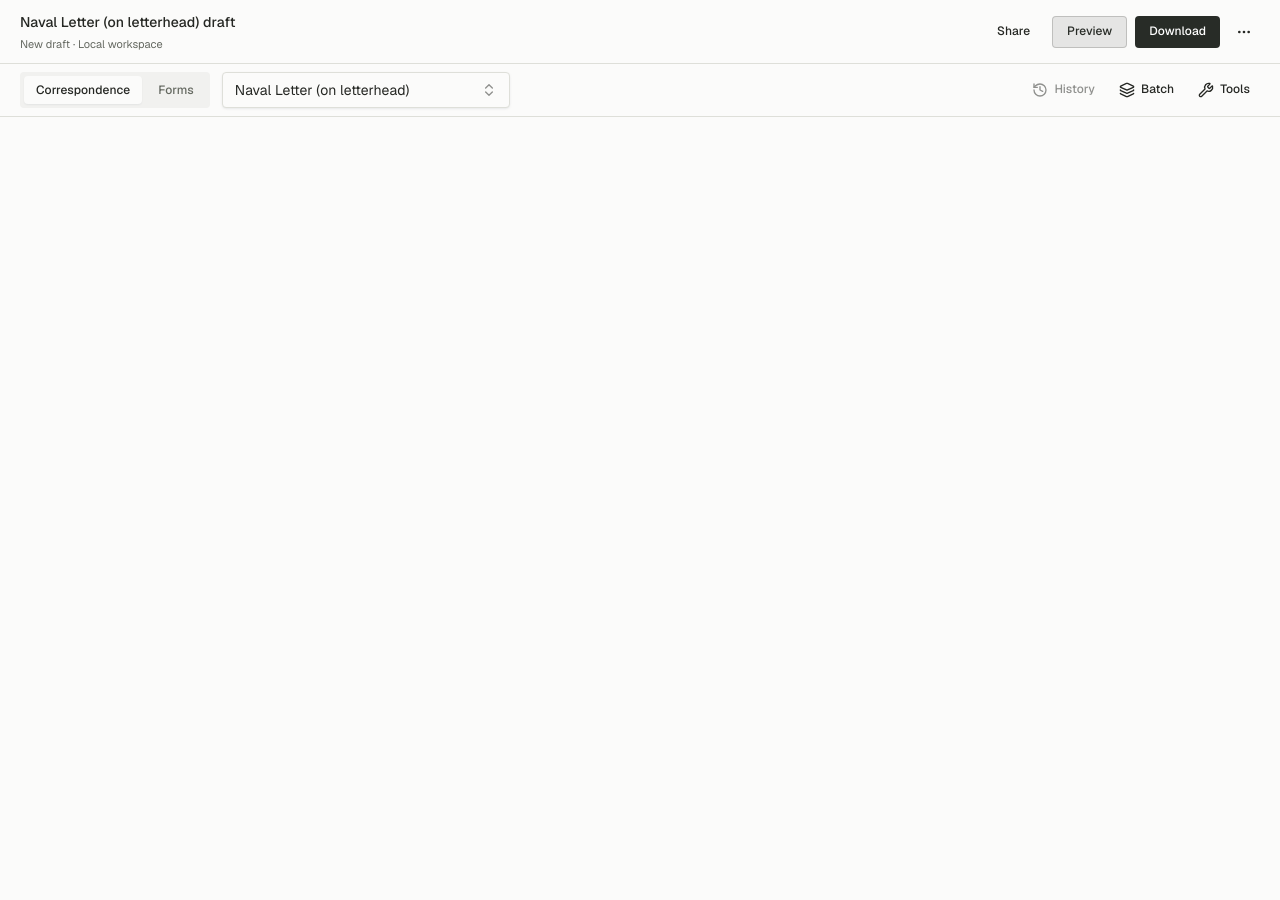
Scenario: opens document formatting from Tools without duplicating the type picker
Step 1. Click the button with aria-label "Document tools" → (1224, 90), box [1188,74,1260,106]
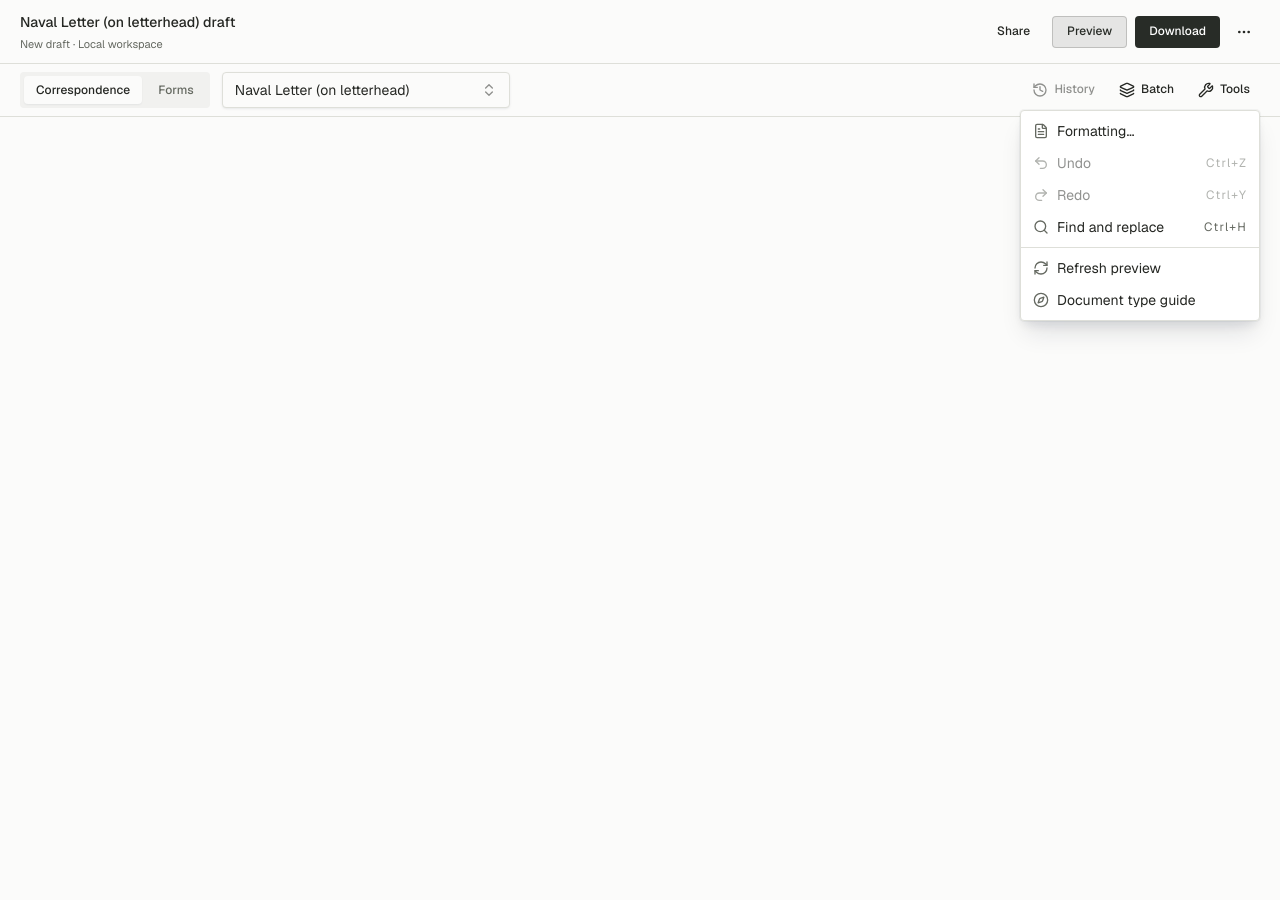
Step 2. Click the menu item "Formatting…" → (1084, 131), box [1033,122,1135,140]
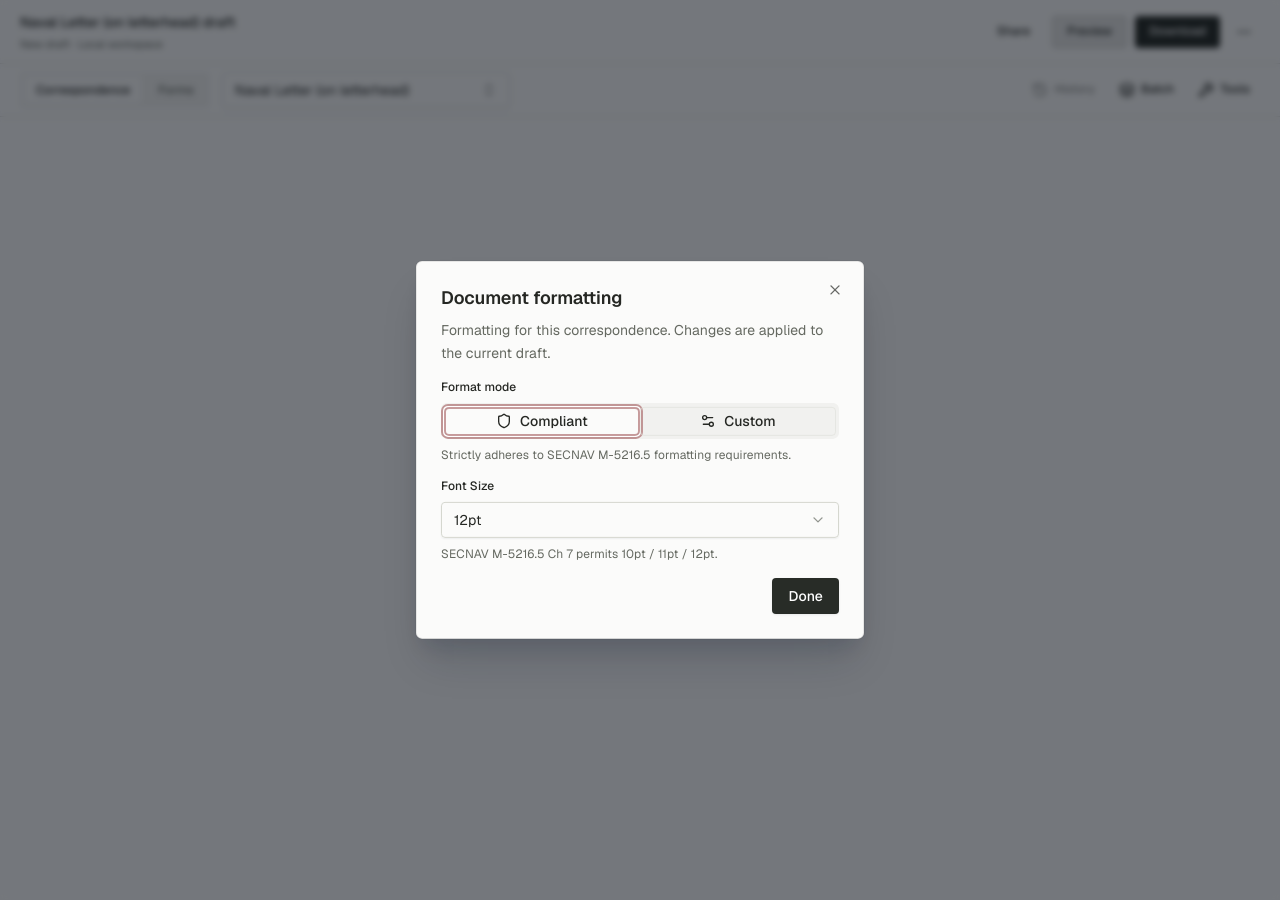
Check: the dialog "Document formatting" is shown, box [416,261,864,639]
Step 3. Click the tab "Custom" → (738, 421), box [640,407,836,436]
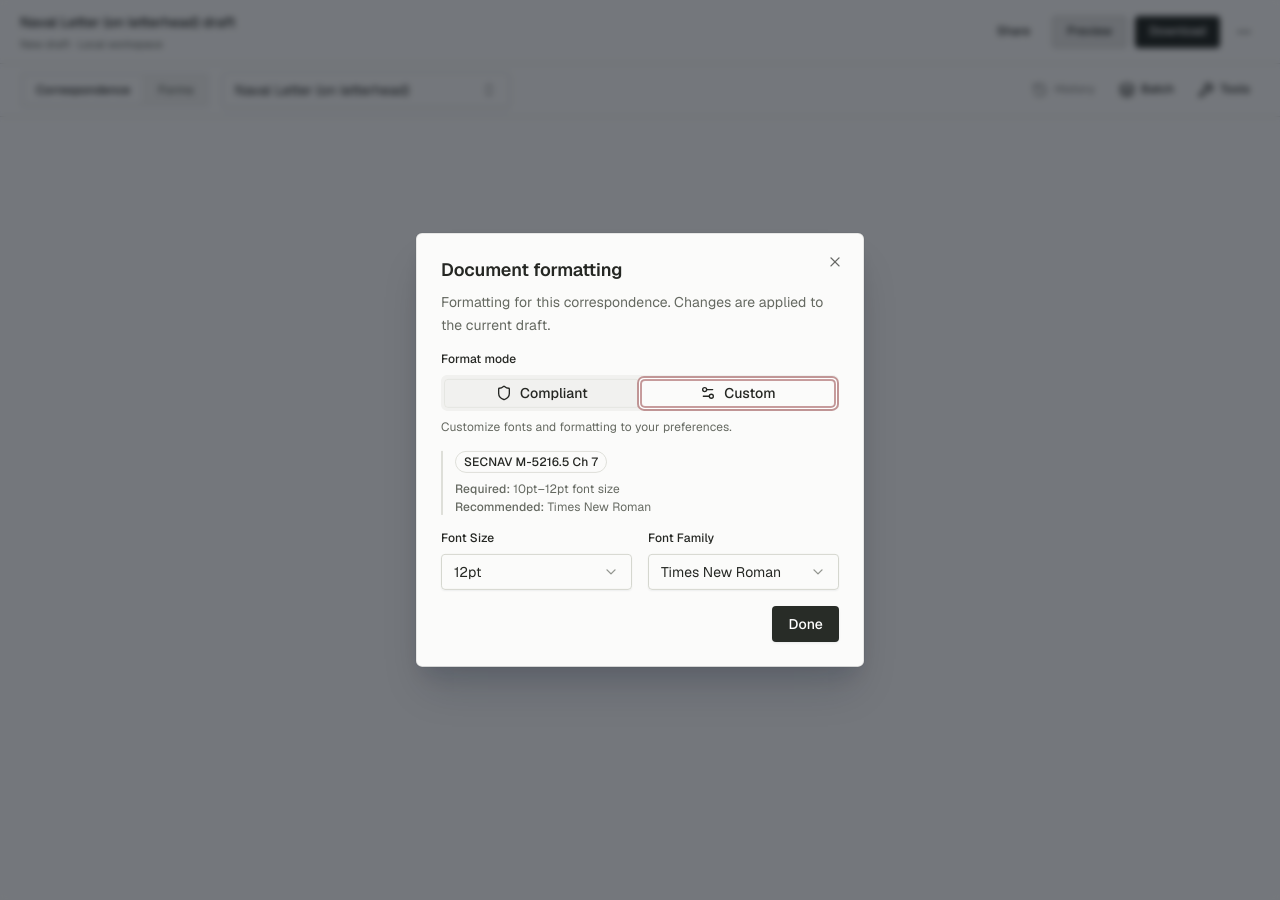
Check: the menu item "Document type" is not shown
Check: the dropdown named "Font family" is shown, box [648,554,839,590]
Step 4. Click the button "Done" → (806, 624), box [772,606,839,642]
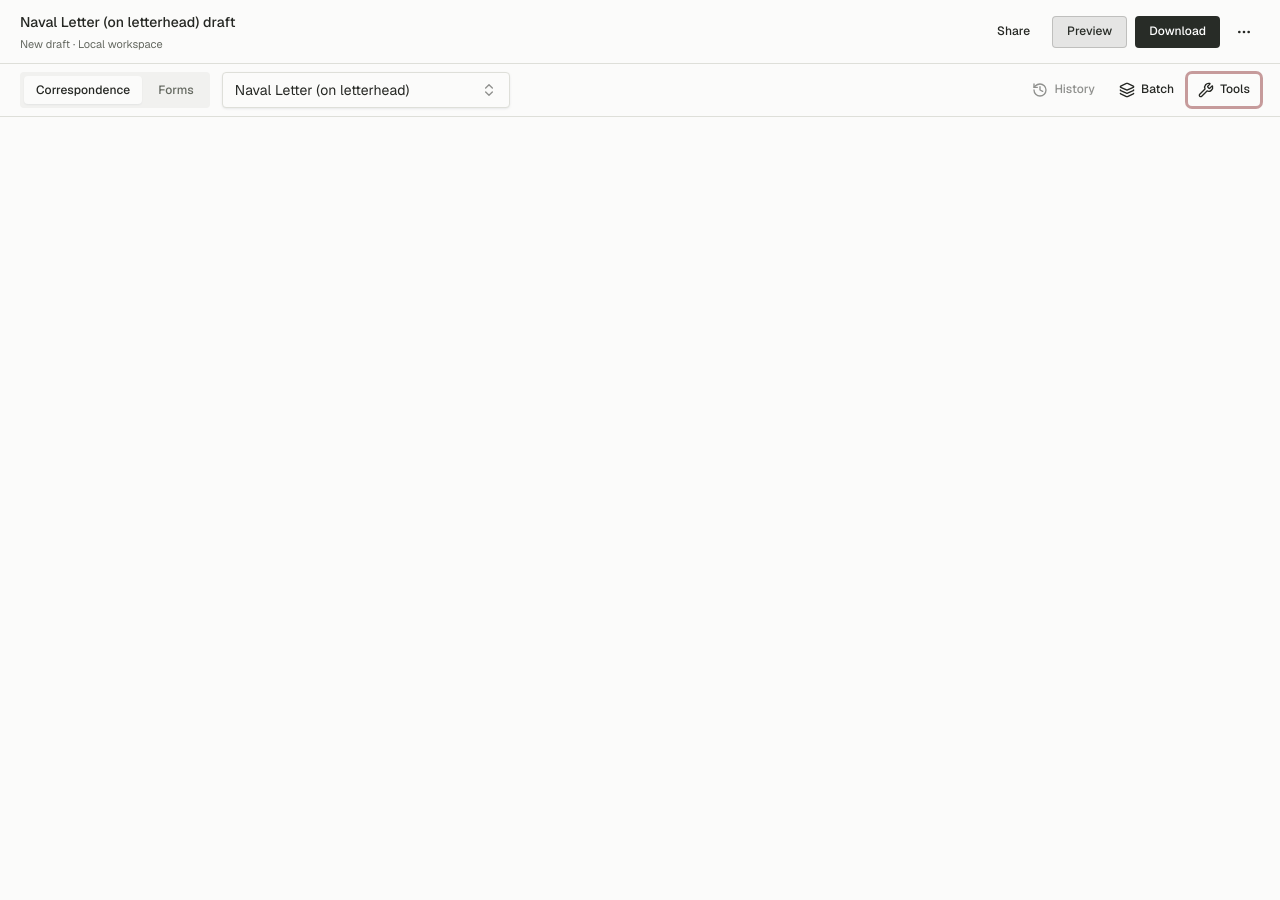
Check: the heading "Document formatting" is gone
